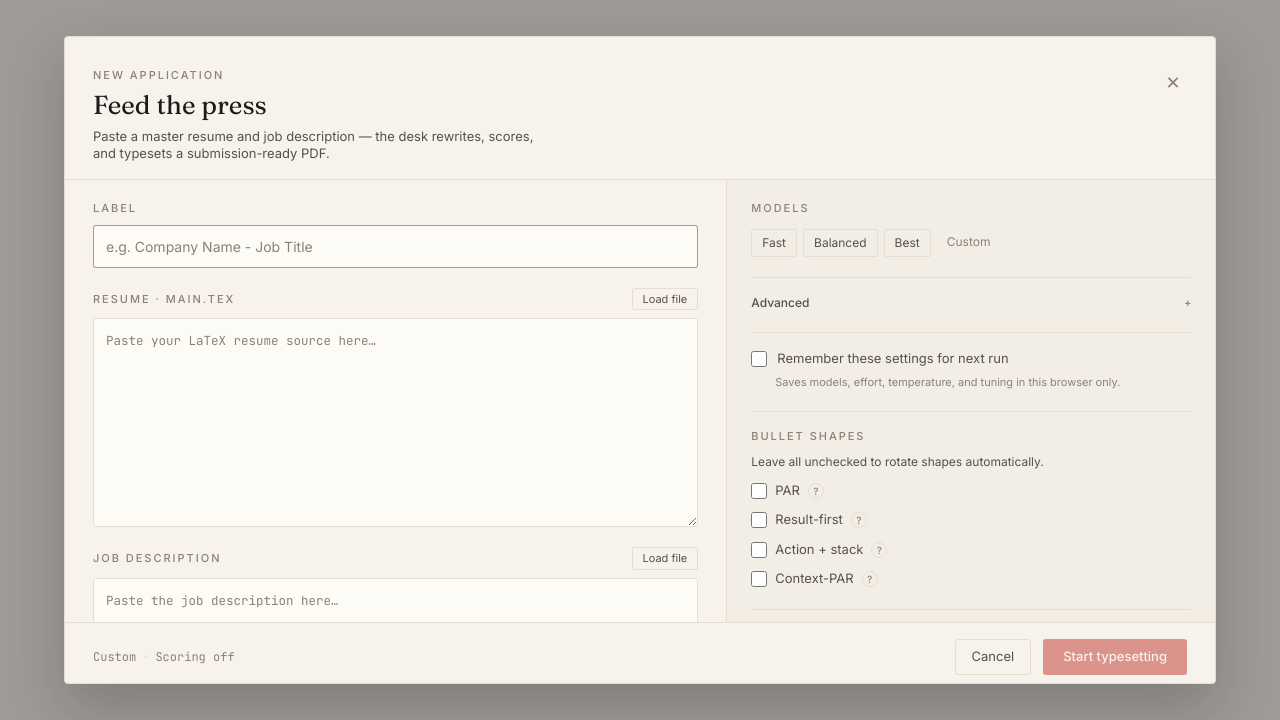
NewJobModal › pre-fills models from a previously remembered config on mount
Expected: the element named "model presets" is shown, [751,229,990,257]
Step 1. Click the button "Advanced +" → coordinates (780, 302), box [751,294,1191,312]
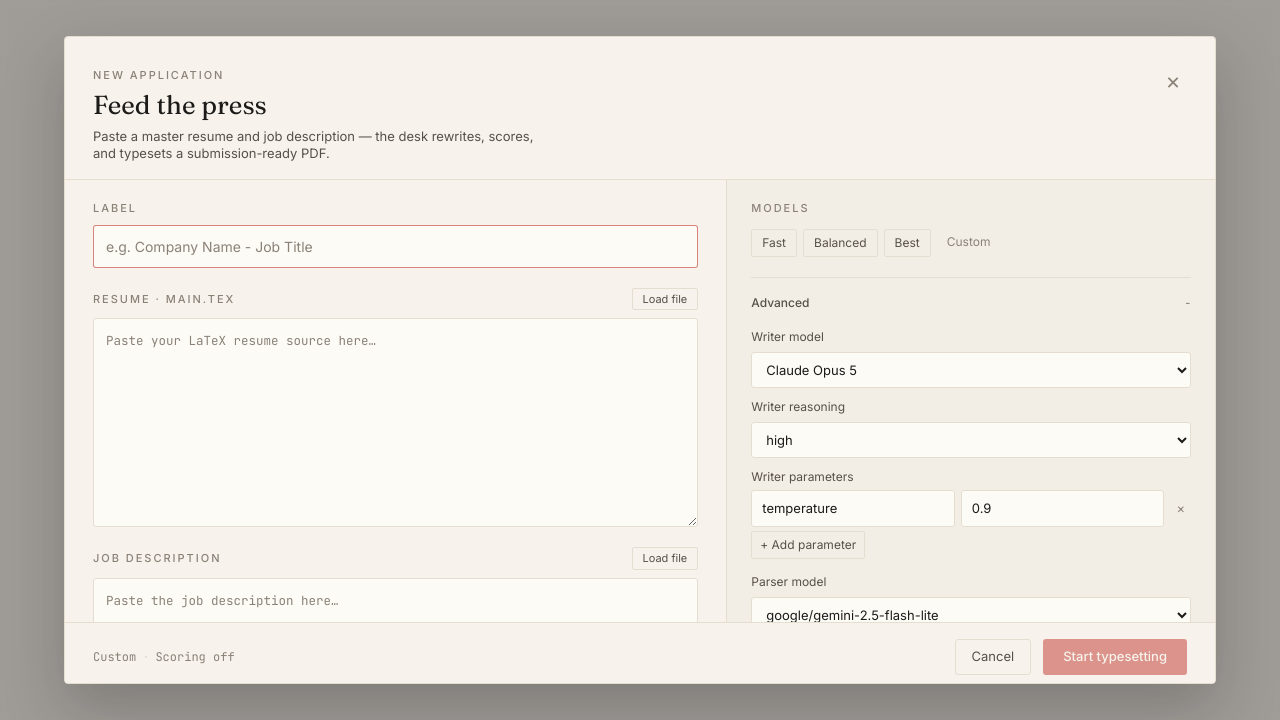
Expected: the dropdown labelled "Writer model" shows "Claude Opus 5", [751,352,1191,388]
